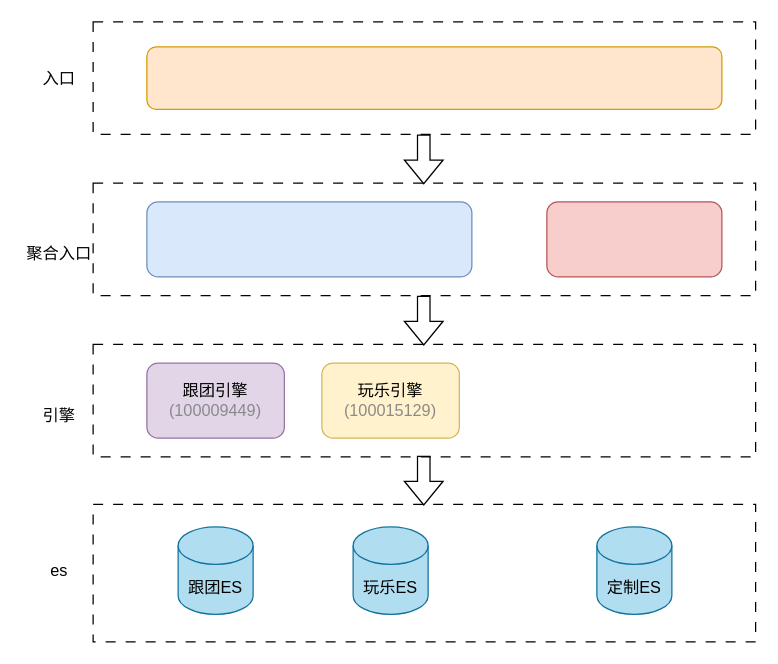
Some shapes in this 778 by 664 pixel diagram are drawn without their labels. The centre of each missing label's shape, as x and y in pixels:
前端入口 (跟团/玩乐/定制): pixel 434 77
定制师/案例聚合服务 (100018825): pixel 634 239
跟团/玩乐聚合服务 (100029227): pixel 309 239
